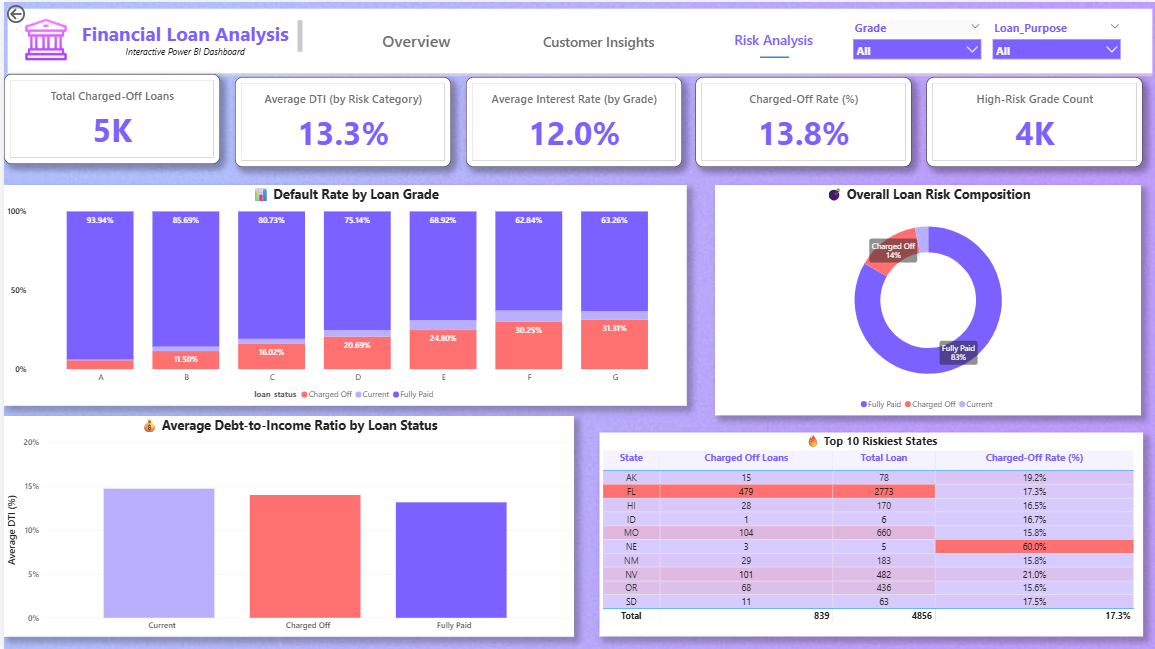

This screenshot's page, from the dashboard's own definition file:
{"tool":"powerbi","page":{"name":"Risk Analysis","canvas":[1920,1082],"ordinal":2},"visuals":[{"type":"cardVisual","fields":{"Data":["Dax Measures.Average Interest Rate (by Grade)"]},"box":[769,124,360,150],"z":0},{"type":"cardVisual","fields":{"Data":["Dax Measures.Average DTI (by Risk Category)"]},"box":[384.5,124,360,150],"z":1000},{"type":"shape","box":[0,4.1,1920,120],"z":2000},{"type":"image","box":[30.2,21.4,79.8,79.8],"z":3000},{"type":"textbox","box":[110,25.7,392.6,75.5],"z":4000},{"type":"actionButton","box":[621.3,43,129.4,41],"z":5000},{"type":"actionButton","box":[890,44,202,40],"z":6000},{"type":"actionButton","box":[1208,42,150,40],"z":7000},{"type":"shape","box":[1260,84,48,14],"z":8000},{"type":"hundredPercentStackedColumnChart","title":"📊 Default Rate by Loan Grade","fields":{"Category":["financial_loan.grade"],"Series":["financial_loan.loan_status"],"Y":["CountNonNull(financial_loan.loan_status)"]},"box":[0,306,1138,368],"z":9000},{"type":"cardVisual","fields":{"Data":["Dax Measures.Total Charged-Off Loans"]},"box":[0,120,360,150],"z":10000},{"type":"cardVisual","fields":{"Data":["Dax Measures.Charged-Off Rate (%)"]},"box":[1153.5,124,360,150],"z":11000},{"type":"cardVisual","fields":{"Data":["Dax Measures.High-Risk Grade Count"]},"box":[1538,124,360,150],"z":12000},{"type":"donutChart","title":"💣 Overall Loan Risk Composition","fields":{"Y":["CountNonNull(financial_loan.id)"],"Category":["financial_loan.loan_status"]},"box":[1186,306,710,384],"z":13000},{"type":"columnChart","title":"💰 Average Debt-to-Income Ratio by Loan Status","fields":{"Category":["financial_loan.loan_status"],"Y":["Dax Measures.Average DTI"]},"box":[0,690,950,368],"z":14000},{"type":"tableEx","title":"🔥 Top 10 Riskiest States","fields":{"Values":["financial_loan.address_state","Dax Measures.Charged Off Loans","Dax Measures.Total Loan Applications","Dax Measures.Charged-Off Rate (%)"]},"box":[992,718,906,340],"z":15000},{"type":"actionButton","box":[0,0,100,40],"z":16000},{"type":"slicer","fields":{"Values":["financial_loan.grade"]},"box":[1404,26,234,72],"z":17000},{"type":"slicer","fields":{"Values":["financial_loan.purpose"]},"box":[1638,26,234,84],"z":18000}]}

Visuals, with their boxes in screenshot pixels (x1, y1, x2, y2), scaled from the page's 1920x1082 canvas onto the 1155x649 screenshot:
cardVisual - Dax Measures.Average Interest Rate (by Grade): <bbox>463, 74, 679, 164</bbox>
cardVisual - Dax Measures.Average DTI (by Risk Category): <bbox>231, 74, 448, 164</bbox>
shape: <bbox>0, 2, 1154, 74</bbox>
image: <bbox>18, 13, 66, 61</bbox>
textbox: <bbox>66, 15, 302, 61</bbox>
actionButton: <bbox>374, 26, 452, 50</bbox>
actionButton: <bbox>535, 26, 657, 50</bbox>
actionButton: <bbox>727, 25, 817, 49</bbox>
shape: <bbox>758, 50, 787, 59</bbox>
"📊 Default Rate by Loan Grade" hundredPercentStackedColumnChart: <bbox>0, 184, 685, 404</bbox>
cardVisual - Dax Measures.Total Charged-Off Loans: <bbox>0, 72, 217, 162</bbox>
cardVisual - Dax Measures.Charged-Off Rate (%): <bbox>694, 74, 910, 164</bbox>
cardVisual - Dax Measures.High-Risk Grade Count: <bbox>925, 74, 1142, 164</bbox>
"💣 Overall Loan Risk Composition" donutChart: <bbox>713, 184, 1141, 414</bbox>
"💰 Average Debt-to-Income Ratio by Loan Status" columnChart: <bbox>0, 414, 571, 635</bbox>
"🔥 Top 10 Riskiest States" tableEx: <bbox>597, 431, 1142, 635</bbox>
actionButton: <bbox>0, 0, 60, 24</bbox>
slicer - financial_loan.grade: <bbox>845, 16, 985, 59</bbox>
slicer - financial_loan.purpose: <bbox>985, 16, 1126, 66</bbox>
